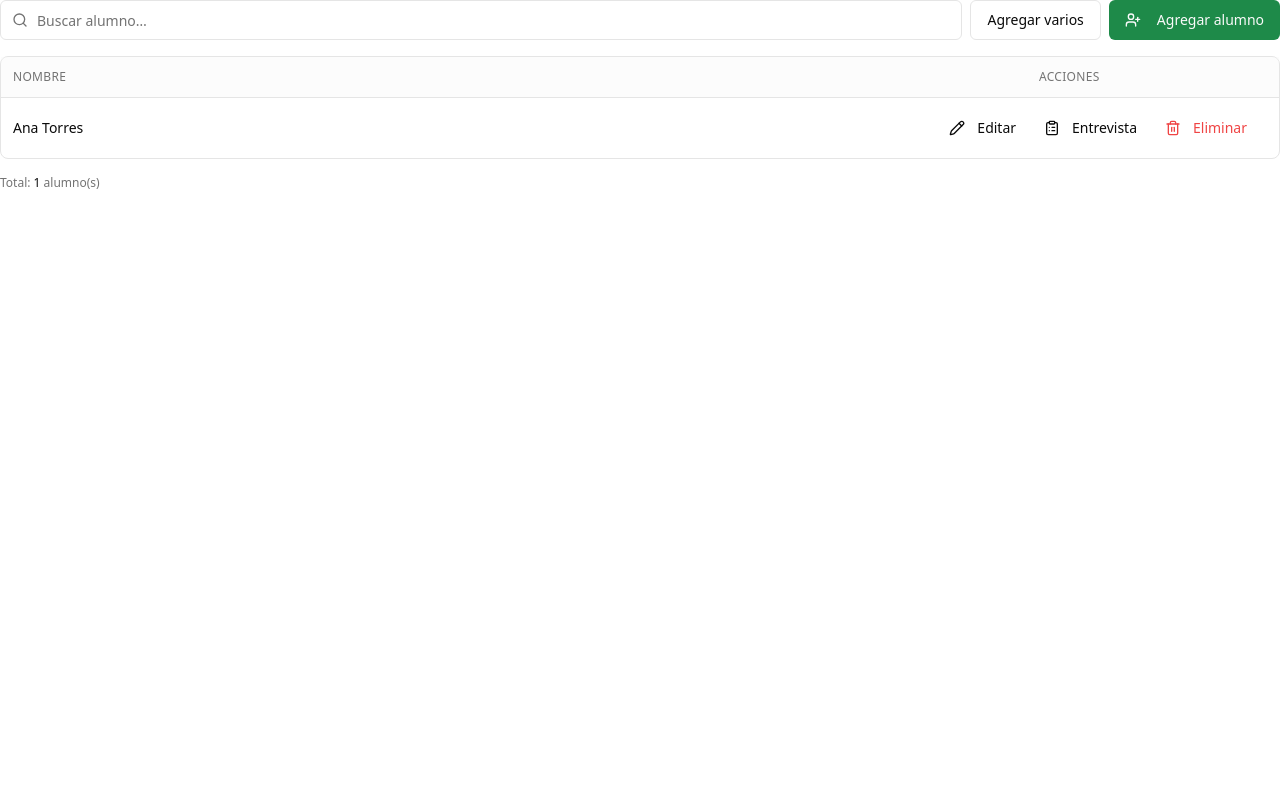
AlumnosManager — modal de entrevista con UX stepper (IMPL-20260821-01) › abre el modal con un cuerpo scrollable interno (data-testid entrevista-dialog-body)
Click the button with test id "entrevista-button-alumno-1": (1090, 128) x1=1032 y1=110 x2=1149 y2=146
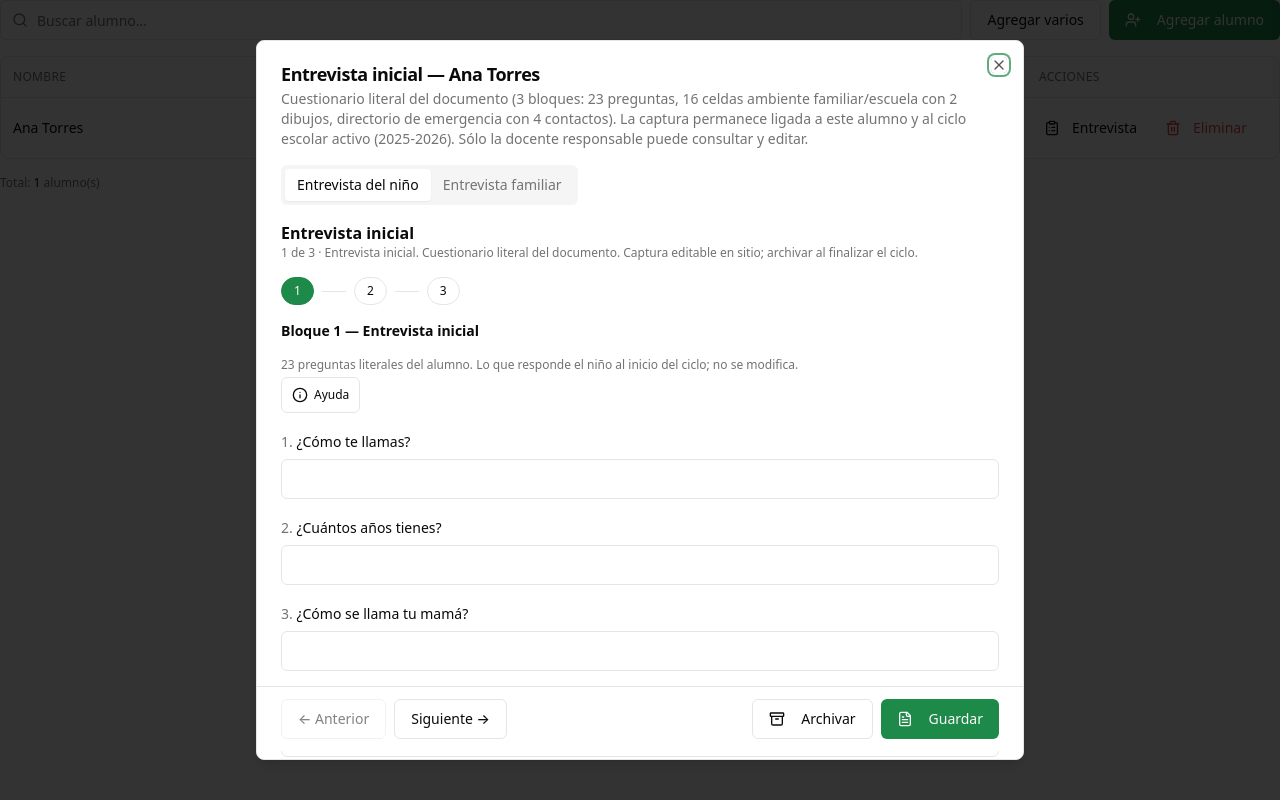
Expected: the element with test id "entrevista-dialog-body" is shown, x1=257 y1=165 x2=1023 y2=759
Expected: the dialog with test id "entrevista-dialog-body" is shown, x1=256 y1=40 x2=1024 y2=760
